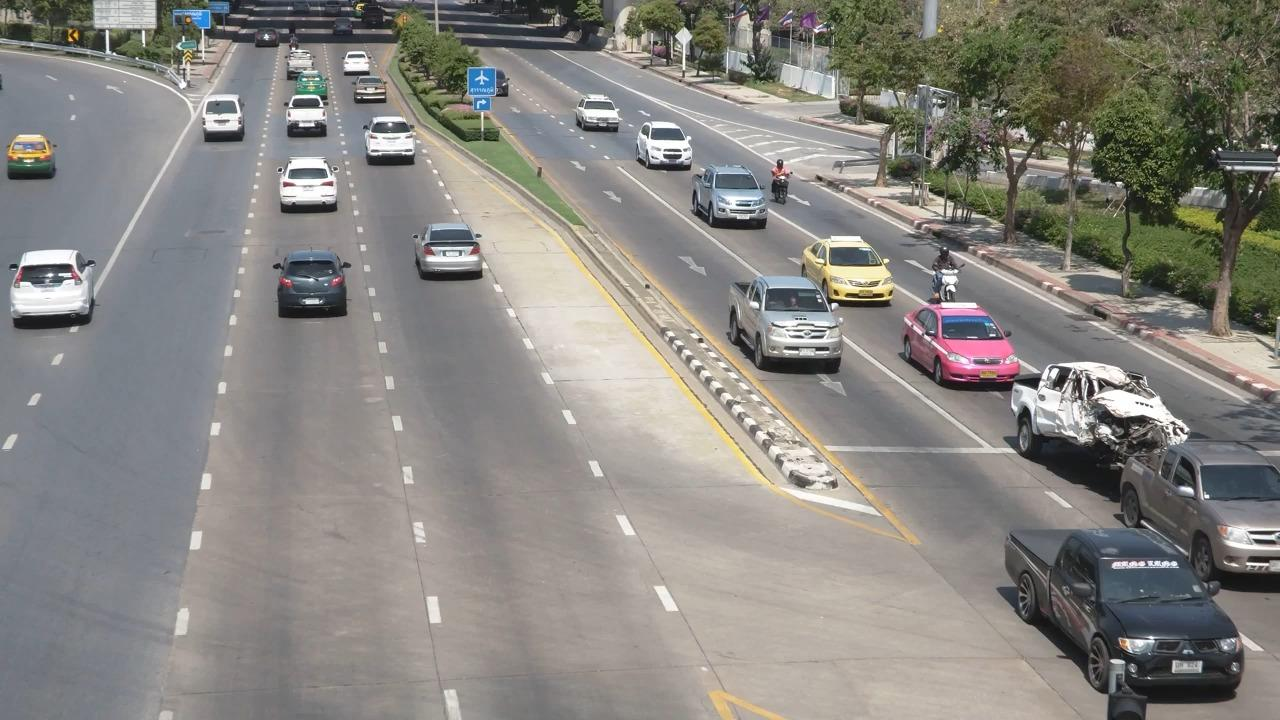CAR: (985, 509, 1253, 715), (1112, 419, 1280, 577), (719, 269, 851, 380), (893, 290, 1022, 388), (797, 222, 901, 308), (9, 243, 104, 327), (272, 243, 361, 324), (406, 215, 494, 287), (687, 159, 770, 233), (275, 152, 347, 215), (632, 115, 698, 173), (359, 113, 422, 169), (197, 89, 254, 143), (5, 130, 65, 178), (570, 85, 628, 134), (283, 93, 333, 136), (352, 75, 395, 109), (340, 45, 374, 77), (287, 46, 318, 74)
MOTOR: (928, 239, 970, 302), (766, 152, 797, 210)
